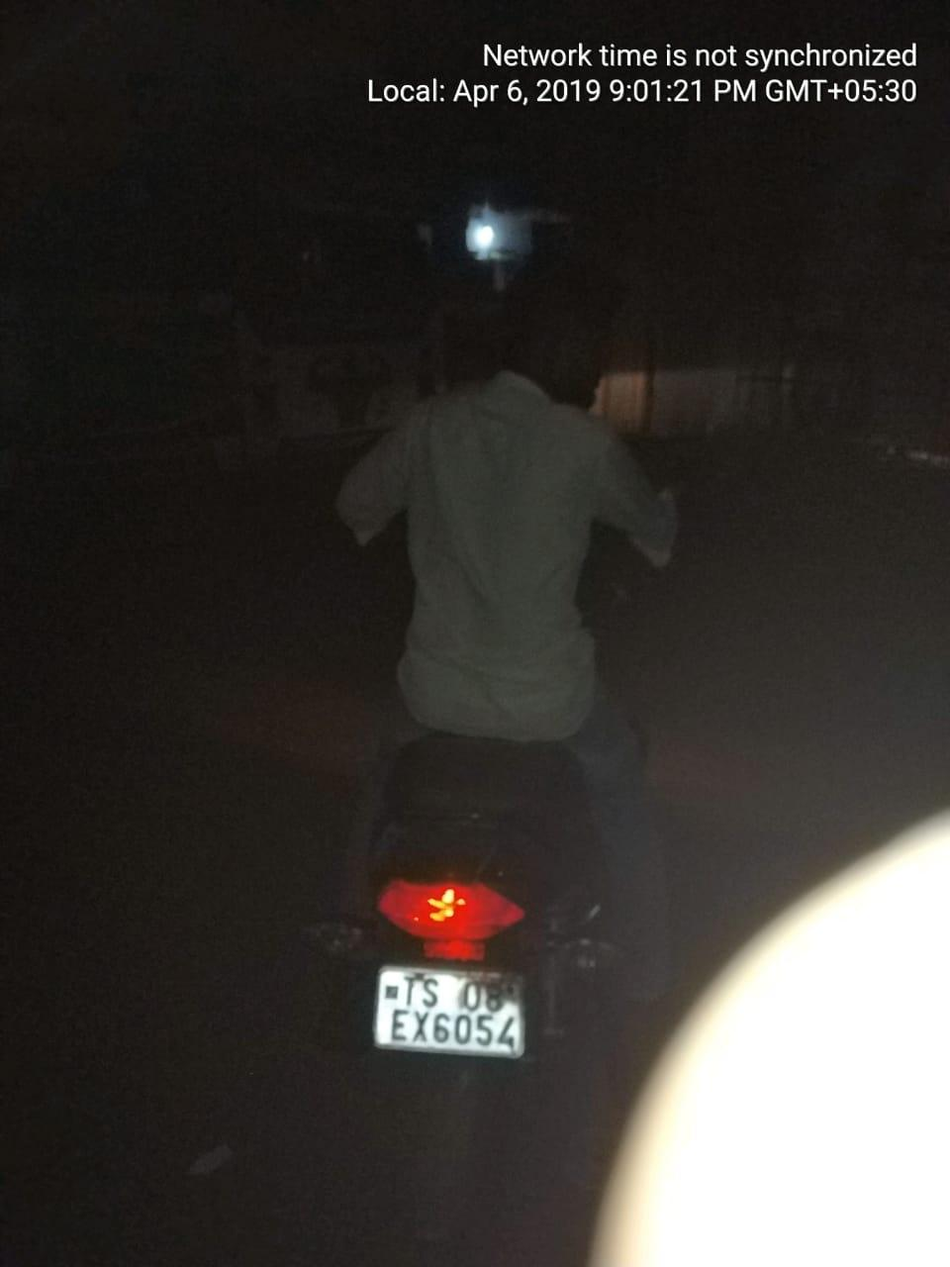plate: (368, 948, 589, 1077)
